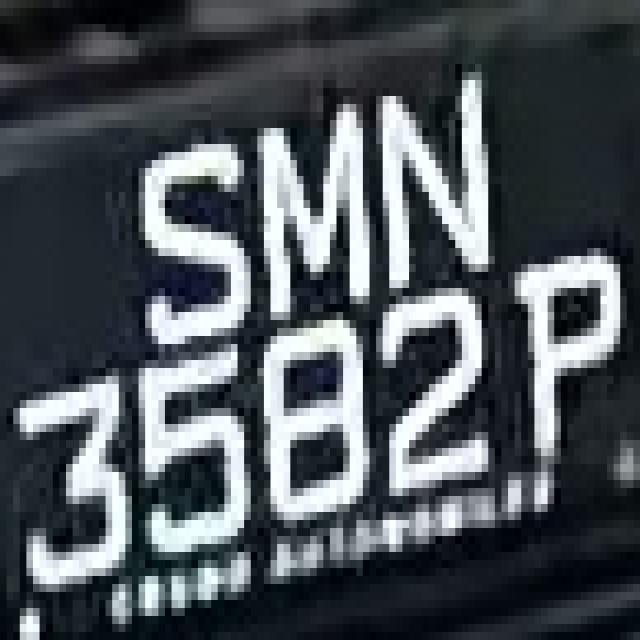2: (369, 288, 502, 504)
3: (13, 336, 139, 616)
5: (119, 328, 264, 592)
8: (250, 320, 382, 544)
M: (238, 80, 390, 320)
N: (363, 40, 515, 296)
P: (514, 224, 626, 496)
S: (125, 96, 264, 352)
